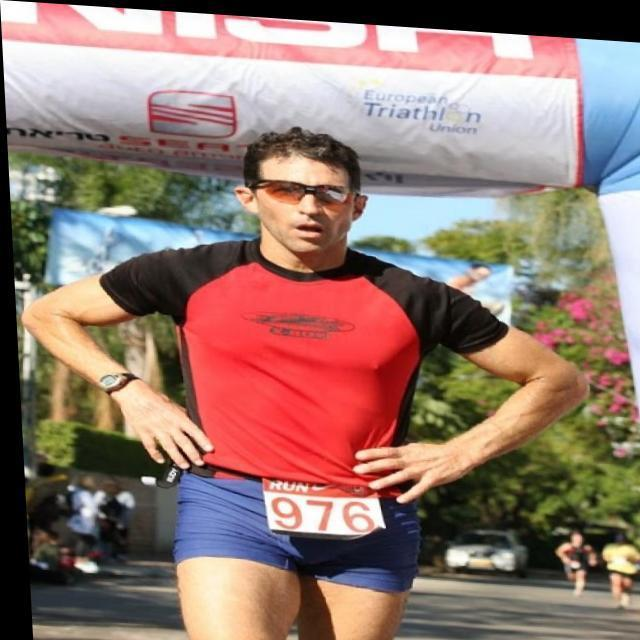dorsal: (244, 468, 397, 544)
